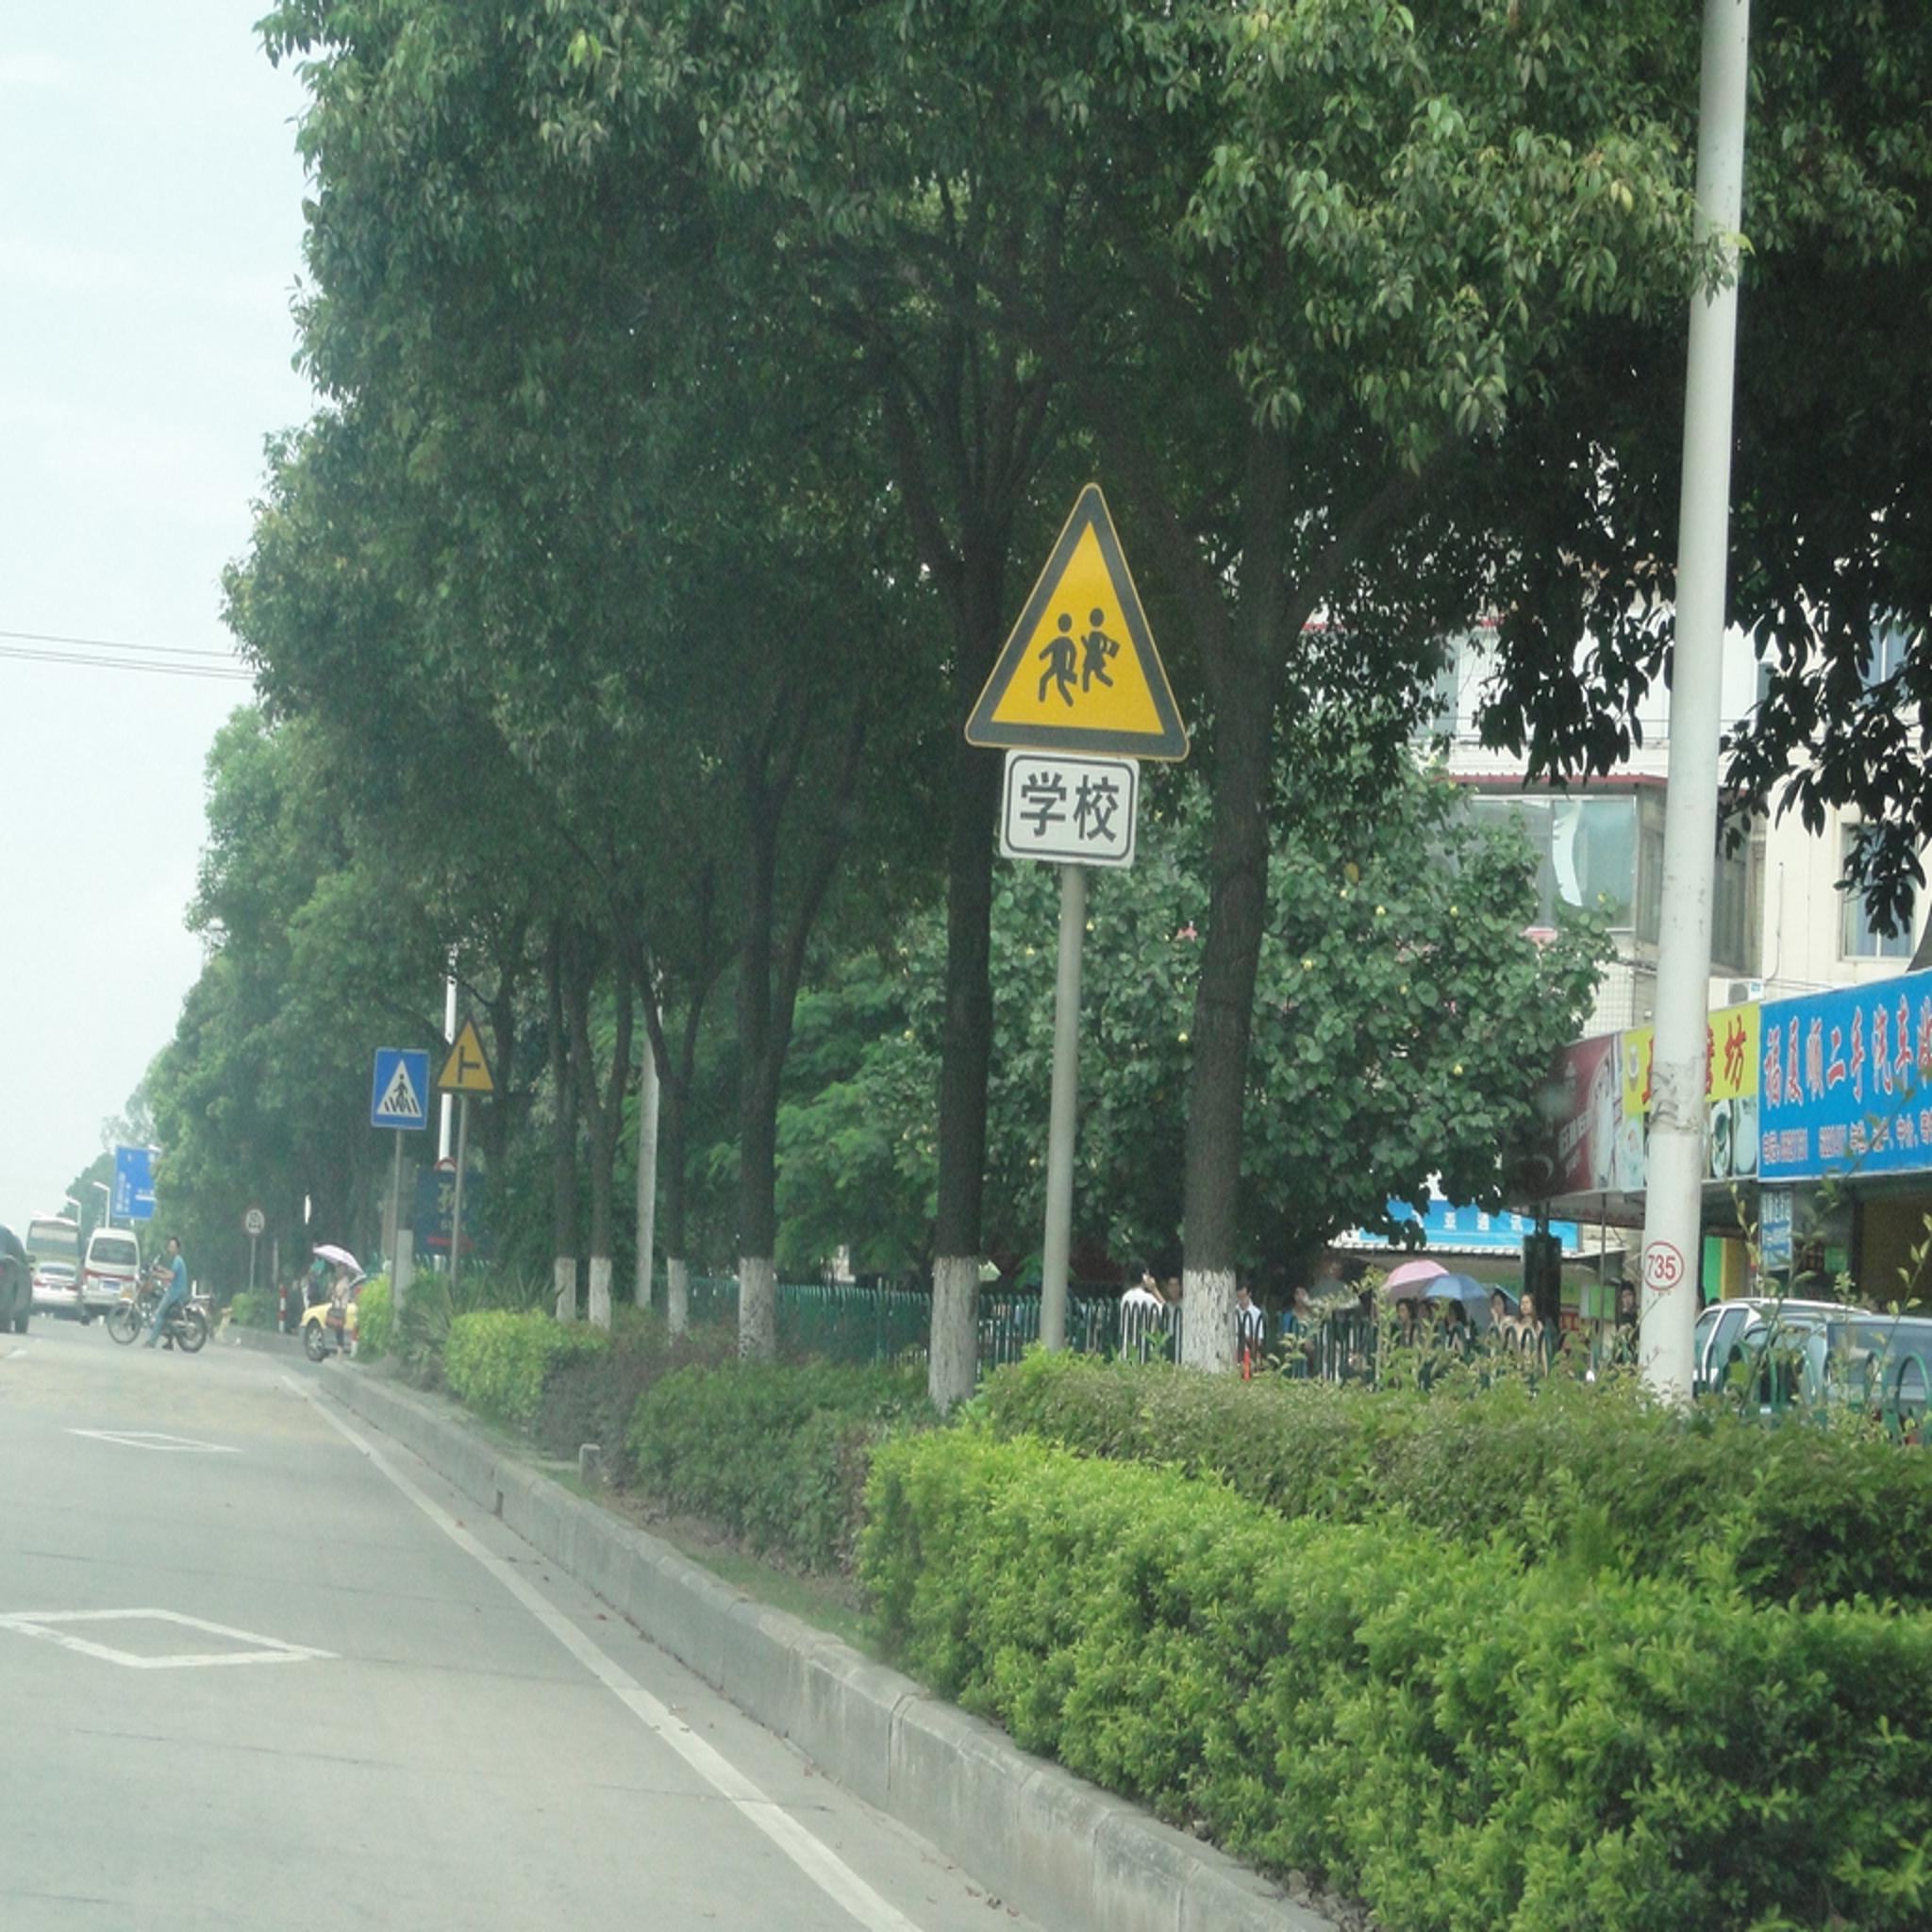ip: (368, 1054, 435, 1136)
w22: (435, 1012, 495, 1095)
w55: (970, 479, 1191, 754)
